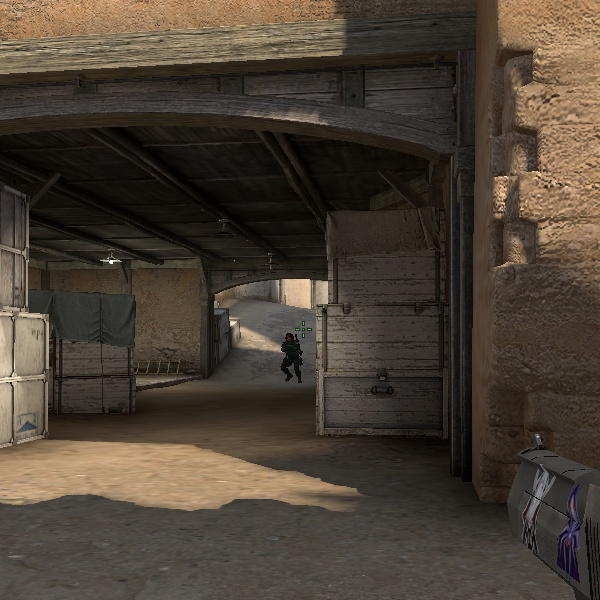ct_body: (276, 329, 304, 382)
ct_head: (282, 330, 296, 344)
